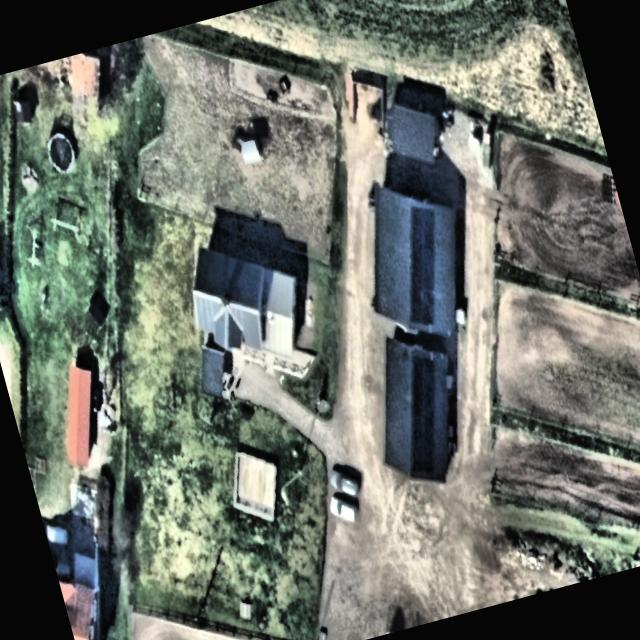roof_pv: (394, 198, 447, 258), (396, 346, 448, 406), (398, 284, 447, 334), (396, 251, 446, 292), (399, 401, 446, 442), (402, 438, 446, 480)
